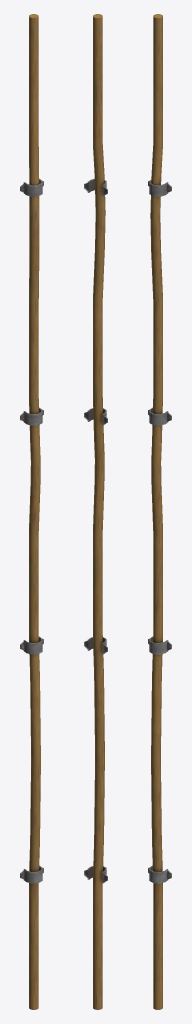
Rendered from Cables01_01.glb.
3 views of the same model, side by side, from view 1: azimuth 30°, elevation 25°; view 2: azimuth 150°, elevation 25°; view 3: azimuth 330°, elevation 25° (orthographic).
Visible parts, largest first — view 1: Circle; view 2: Circle; view 3: Circle.
Part boxes in pixels (left/top/right/bottom): Circle: left=20, top=14, right=43, bottom=1009; Circle: left=84, top=14, right=107, bottom=1009; Circle: left=148, top=14, right=171, bottom=1009.
Bounding box in the file's own units: 0.0668 × 2.7 × 0.0361.
1 material, 1 textured.
